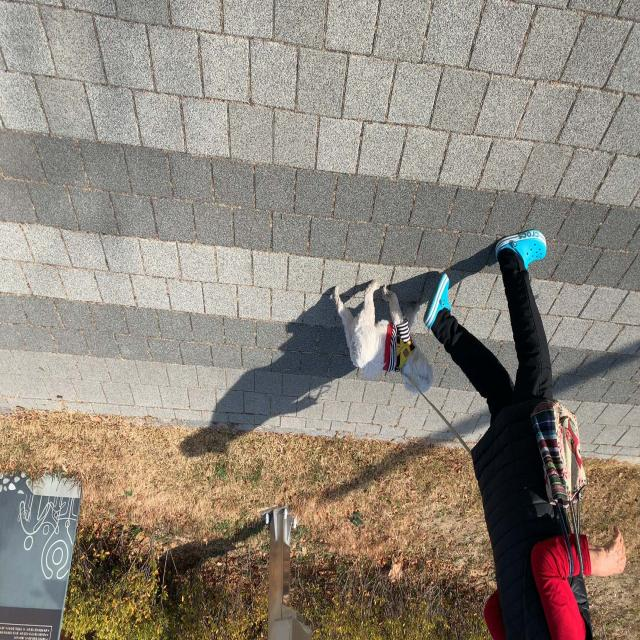Leashed_Dog: (107, 54, 308, 360)
